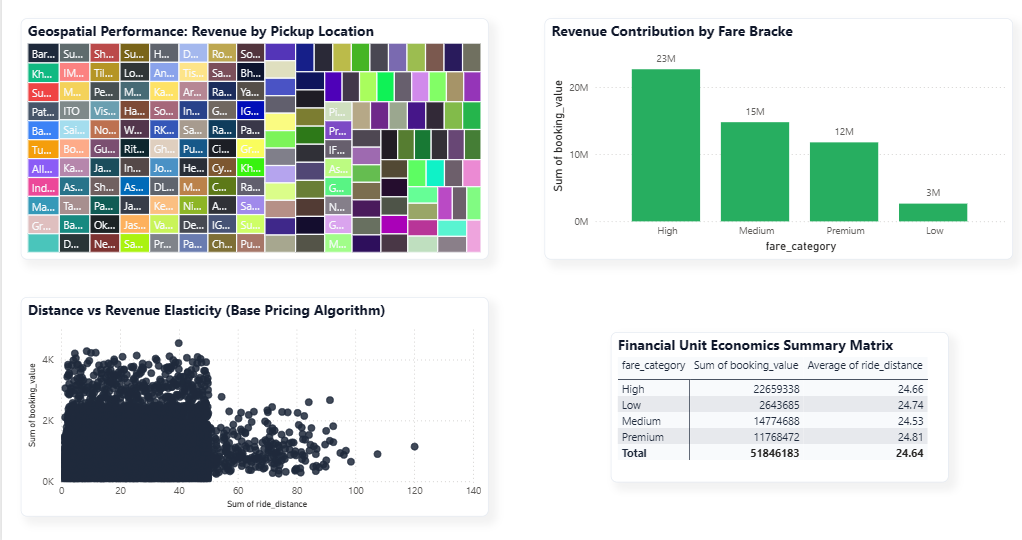

What the dashboard file says about the page in this screenshot:
{"tool":"powerbi","page":{"name":"Revenue Analytics","canvas":[1280,720],"ordinal":3},"visuals":[{"type":"treemap","title":"Geospatial Performance: Revenue by Pickup Location","fields":{"Group":["ride_hailing_cleaned.pickup_location"],"Values":["Sum(ride_hailing_cleaned.booking_value)"]},"box":[23.3,57.6,584.6,301.9],"z":0},{"type":"clusteredColumnChart","title":"Revenue Contribution by Fare Bracke","fields":{"Category":["ride_hailing_cleaned.fare_category"],"Y":["Sum(ride_hailing_cleaned.booking_value)"]},"box":[677.9,57.6,585.9,301.9],"z":1000},{"type":"scatterChart","title":"Distance vs Revenue Elasticity (Base Pricing Algorithm)","fields":{"X":["Sum(ride_hailing_cleaned.ride_distance)"],"Y":["Sum(ride_hailing_cleaned.booking_value)"],"Category":["ride_hailing_cleaned.booking_id"]},"box":[23.3,406.2,584.6,274.4],"z":2000},{"type":"pivotTable","title":"Financial Unit Economics Summary Matrix","fields":{"Rows":["ride_hailing_cleaned.fare_category"],"Values":["Sum(ride_hailing_cleaned.booking_value)","Avg(ride_hailing_cleaned.ride_distance)"]},"box":[760.2,450.1,422.6,188],"z":3000}]}

Visuals, with their boxes on the page's 1280x720 design canvas (x1, y1, x2, y2). These are canvas units, not pixel positions in the 1022x540 screenshot, which may show the page scaled, cropped or inside an application window:
"Geospatial Performance: Revenue by Pickup Location" treemap: pyautogui.locateOnScreen(23, 58, 608, 360)
"Revenue Contribution by Fare Bracke" clusteredColumnChart: pyautogui.locateOnScreen(678, 58, 1264, 360)
"Distance vs Revenue Elasticity (Base Pricing Algorithm)" scatterChart: pyautogui.locateOnScreen(23, 406, 608, 681)
"Financial Unit Economics Summary Matrix" pivotTable: pyautogui.locateOnScreen(760, 450, 1183, 638)
